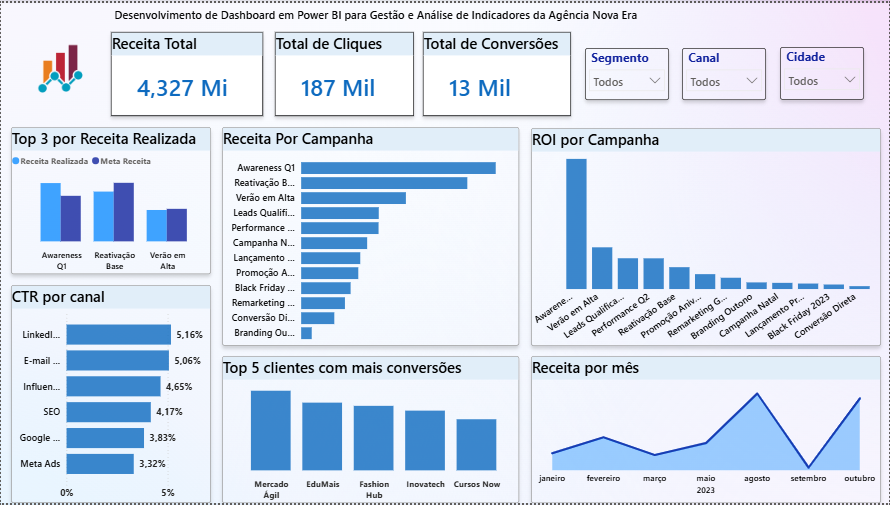

The page's visual inventory and layout, read from the dashboard file:
{"tool":"powerbi","page":{"name":"Página 1","canvas":[1280,720],"ordinal":0},"visuals":[{"type":"cardVisual","title":" Receita Total","fields":{"Data":["Sum(resultados.receita)"]},"box":[158.4,41.8,218.9,121],"z":0},{"type":"cardVisual","title":"Total de Cliques","fields":{"Data":["Sum(resultados.cliques)"]},"box":[394.6,41.8,200.2,121],"z":1000},{"type":"cardVisual","title":"Total de Conversões","fields":{"Data":["Sum(resultados.conversoes)"]},"box":[607.7,41.8,213.1,121],"z":2000},{"type":"barChart","title":"Receita Por Campanha","fields":{"Category":["campanhas.nome_campanha"],"Y":["Sum(resultados.receita)"]},"box":[318.2,178.6,427.7,315.4],"z":3000},{"type":"columnChart","title":"ROI por Campanha","fields":{"Category":["campanhas.nome_campanha"],"Y":["campanhas.ROI"]},"box":[763.2,180,504,313.9],"z":4000},{"type":"slicer","fields":{"Values":["campanhas.canal"]},"box":[980.6,64.8,121,74.9],"z":5000},{"type":"slicer","fields":{"Values":["clientes.cidade"]},"box":[1121.8,63.4,121,76.3],"z":6000},{"type":"slicer","fields":{"Values":["clientes.segmento"]},"box":[841,64.8,121,74.9],"z":7000},{"type":"columnChart","title":"Top 5 clientes com mais conversões","fields":{"Category":["clientes.nome_cliente"],"Y":["Sum(resultados.conversoes)"]},"box":[318.2,508.3,427.7,211.7],"z":8000},{"type":"stackedAreaChart","title":"Receita por mês","fields":{"Category":["campanhas.data_inicio.Variation.Hierarquia de datas.Ano","campanhas.data_inicio.Variation.Hierarquia de datas.Mês"],"Y":["Sum(resultados.receita)","Sum(resultados.conversoes)"]},"box":[763.2,508.3,504,211.7],"z":9000},{"type":"clusteredBarChart","fields":{"Y":["campanhas.CTR"],"Category":["campanhas.canal"]},"box":[14.4,406.1,288,313.9],"z":10000},{"type":"clusteredColumnChart","title":"Top 3 por Receita Realizada","fields":{"Category":["campanhas.nome_campanha"],"Y":["Meta.Receita Realizada","Meta.Meta Receita"]},"box":[14.4,178.6,288,211.7],"z":11000},{"type":"image","box":[0,11.5,171.4,171.4],"z":11001},{"type":"textbox","box":[158.4,1.4,1108.8,40.3],"z":11002}]}

Visuals, with their boxes in screenshot pixels (x1, y1, x2, y2), scaled from the page's 1280x720 canvas onto the 890x505 screenshot:
" Receita Total" cardVisual: BBox(110, 29, 262, 114)
"Total de Cliques" cardVisual: BBox(274, 29, 414, 114)
"Total de Conversões" cardVisual: BBox(423, 29, 571, 114)
"Receita Por Campanha" barChart: BBox(221, 125, 519, 346)
"ROI por Campanha" columnChart: BBox(531, 126, 881, 346)
slicer - campanhas.canal: BBox(682, 45, 766, 98)
slicer - clientes.cidade: BBox(780, 44, 864, 98)
slicer - clientes.segmento: BBox(585, 45, 669, 98)
"Top 5 clientes com mais conversões" columnChart: BBox(221, 357, 519, 504)
"Receita por mês" stackedAreaChart: BBox(531, 357, 881, 504)
clusteredBarChart - campanhas.CTR x campanhas.canal: BBox(10, 285, 210, 504)
"Top 3 por Receita Realizada" clusteredColumnChart: BBox(10, 125, 210, 274)
image: BBox(0, 8, 119, 128)
textbox: BBox(110, 1, 881, 29)
